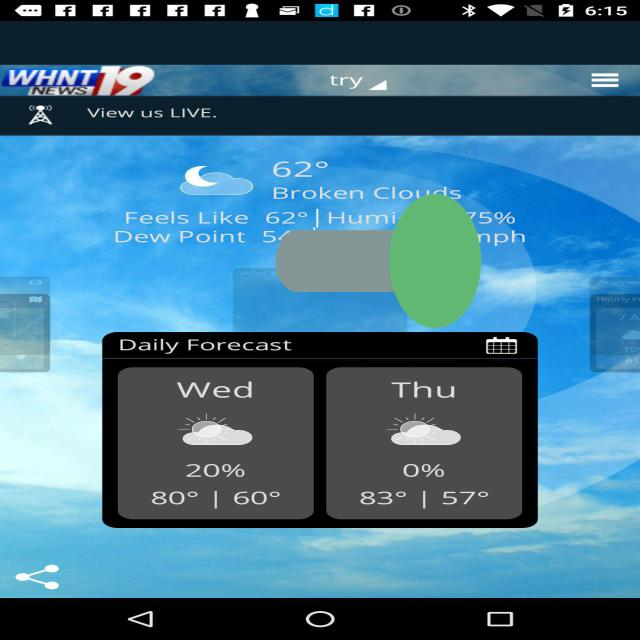social proof: (276, 111, 481, 411)
